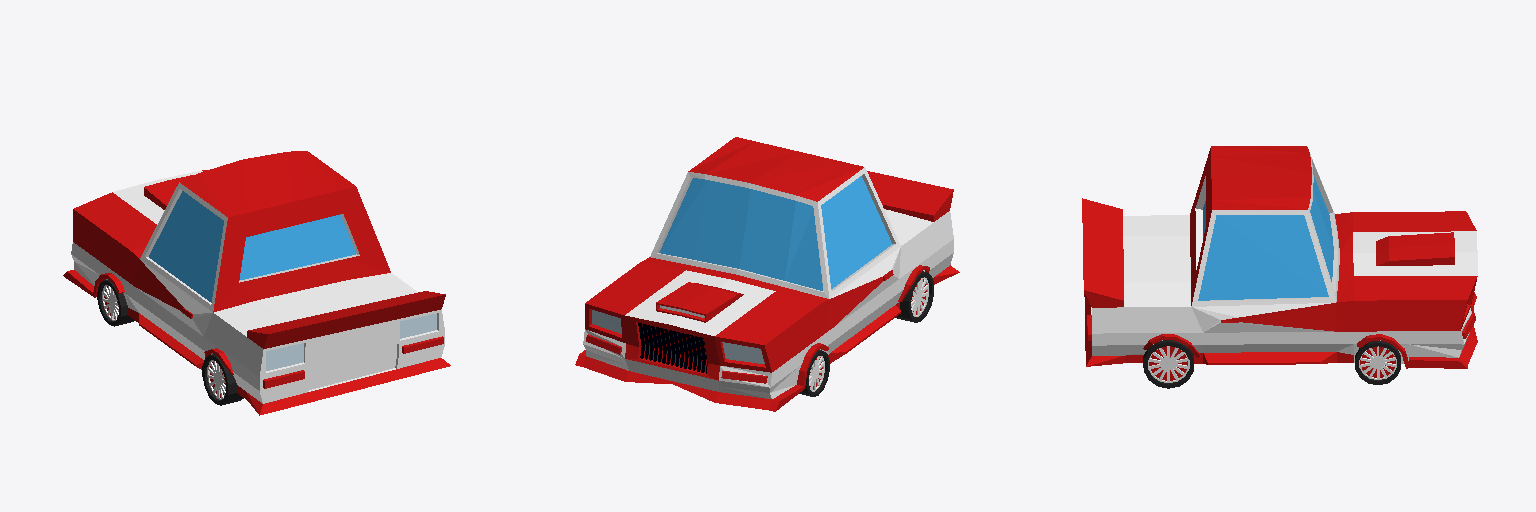
File: Low-Poly-Racing-Car.obj
The picture shows the model from 3 angles: view 1: azimuth 30°, elevation 25°; view 2: azimuth 150°, elevation 25°; view 3: azimuth 270°, elevation 25°; orthographic projection.
Visible parts, largest first — view 1: body_ID56, backlight_ID75, wheel.1_ID84, wheel1.1_ID93; view 2: body_ID56, lattice.1_ID29, wheel.1_ID84, headlight_ID66, wheel1.1_ID93; view 3: body_ID56, wheel.1_ID84, wheel1.1_ID93.
Part boxes in pixels (bbox=[...]): body_ID56: bbox=[63, 151, 450, 415]; backlight_ID75: bbox=[266, 313, 436, 370]; wheel.1_ID84: bbox=[202, 354, 243, 405]; wheel1.1_ID93: bbox=[97, 279, 134, 326]; body_ID56: bbox=[575, 137, 959, 411]; lattice.1_ID29: bbox=[638, 323, 707, 373]; wheel.1_ID84: bbox=[895, 271, 933, 322]; headlight_ID66: bbox=[592, 310, 764, 363]; wheel1.1_ID93: bbox=[799, 350, 829, 396]; body_ID56: bbox=[1082, 146, 1477, 368]; wheel.1_ID84: bbox=[1143, 340, 1193, 388]; wheel1.1_ID93: bbox=[1355, 340, 1400, 384].
Bounding box in the file's own units: 1.39 × 1.11 × 2.37.